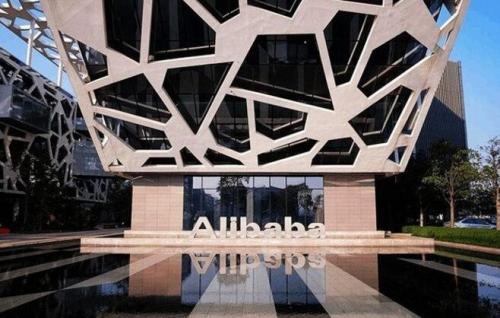alibaba: (186, 214, 328, 247), (187, 249, 328, 278)
